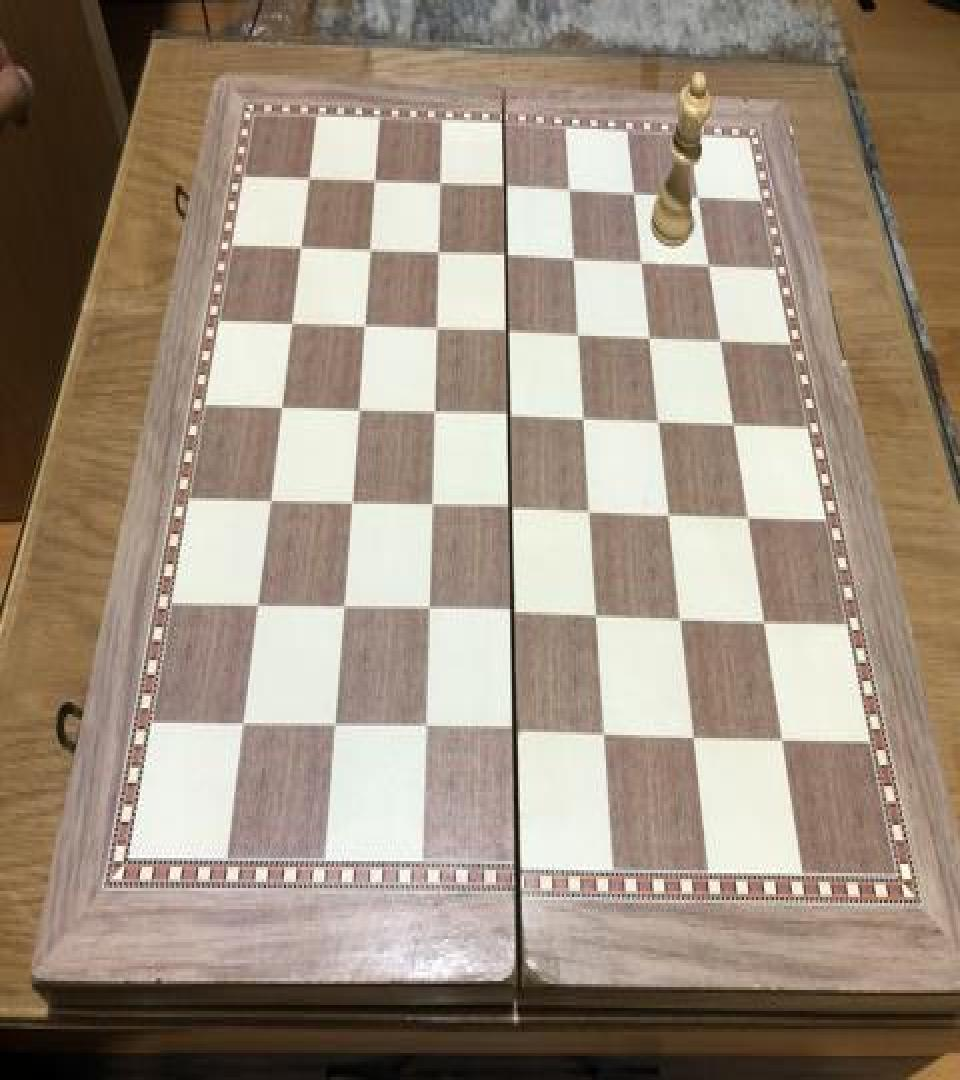xcorner: (754, 601, 778, 638), (500, 595, 524, 632), (682, 718, 706, 755), (411, 712, 435, 749), (623, 170, 647, 206), (558, 168, 582, 204), (494, 166, 518, 202), (429, 165, 453, 201), (363, 162, 387, 198), (298, 160, 322, 196), (698, 242, 722, 278), (630, 238, 654, 274), (563, 237, 587, 273), (494, 236, 518, 272), (426, 232, 450, 268), (358, 231, 382, 267), (289, 230, 313, 266), (710, 316, 734, 352), (639, 315, 663, 351), (567, 314, 591, 350), (496, 310, 520, 346), (424, 309, 448, 345), (352, 308, 376, 344), (280, 304, 304, 340), (723, 402, 747, 438), (648, 399, 672, 435), (572, 398, 596, 434), (497, 396, 521, 432), (421, 393, 445, 429), (345, 392, 369, 428), (269, 390, 293, 426), (737, 495, 761, 531), (658, 494, 682, 530), (578, 492, 602, 528), (498, 489, 522, 525), (418, 488, 442, 524), (338, 486, 362, 522), (257, 483, 281, 519), (669, 600, 693, 636), (585, 597, 609, 633), (415, 594, 439, 630), (329, 591, 353, 627), (244, 590, 268, 626), (772, 722, 796, 758), (592, 717, 616, 753), (501, 716, 525, 752), (320, 711, 344, 747), (228, 710, 252, 746), (688, 173, 712, 208)
